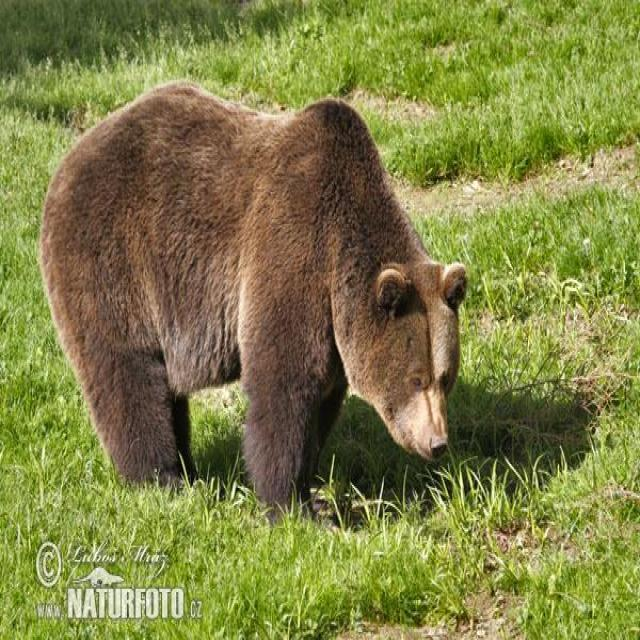Bear: (37, 82, 469, 523)
